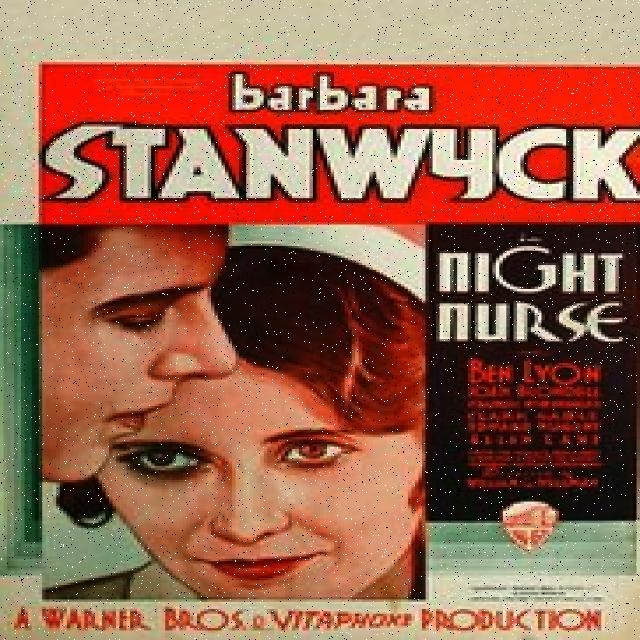movie-judul: (432, 240, 640, 346)
picture: (44, 223, 426, 600)
